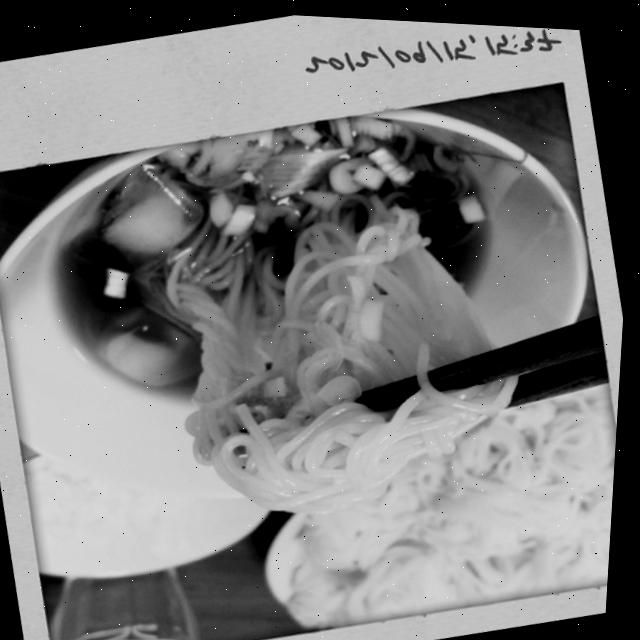面条主食: (0, 96, 636, 640)
